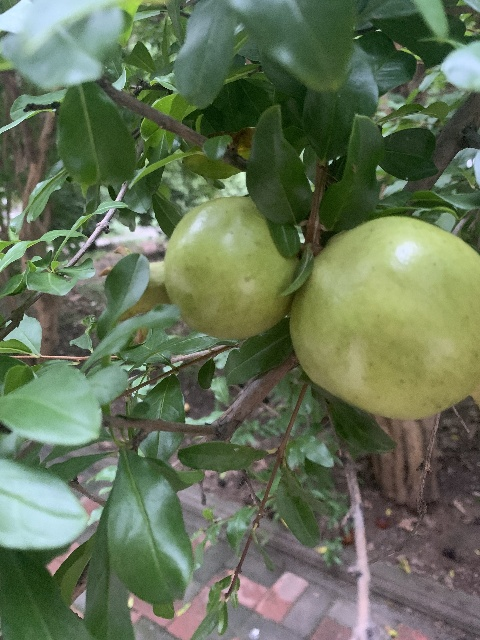mid-growth: (289, 214, 480, 436), (110, 196, 301, 344)
